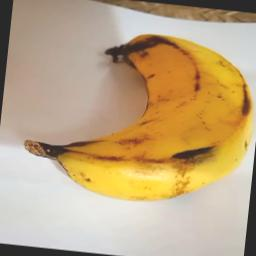Banana Unripe: (15, 28, 256, 212)
